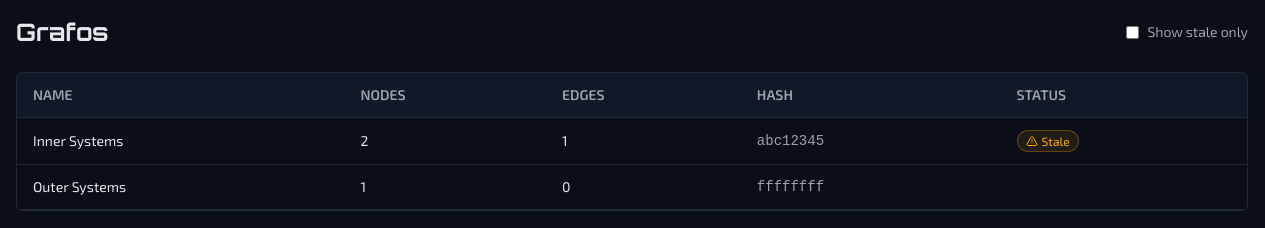
Test: GraphListPage › stale filter hides non-stale graphs
Expected: the heading "Grafos" is shown, top-left (16, 16), bottom-right (108, 48)
Expected: the text "Inner Systems" is shown, top-left (17, 118), bottom-right (344, 164)
Click the checkbox labelled "Show stale only": (1133, 32) top-left (1126, 26), bottom-right (1139, 38)
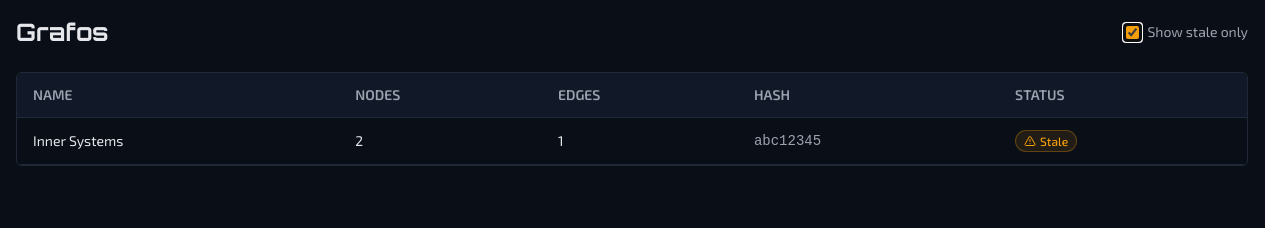
Expected: the text "Inner Systems" is shown, top-left (17, 118), bottom-right (339, 164)
Expected: the text "Outer Systems" is gone
